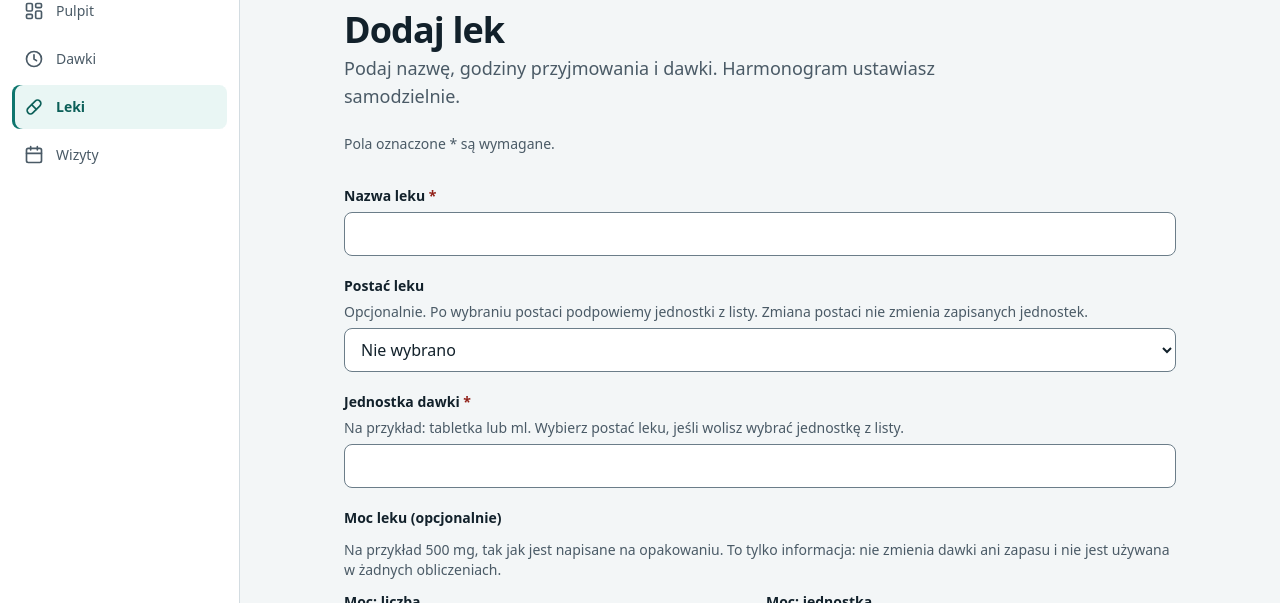
Test: add medication: strength › refuses the strength "-5"
Expected: the heading "Dodaj lek" is shown, [344,5,504,54]
Type "Demoxal" into the field labelled "Nazwa leku" at (760, 234), box [344,212,1176,256]
Type "tabletka" into the field labelled "Jednostka dawki *" at (760, 466), box [344,444,1176,488]
(page scrolled)
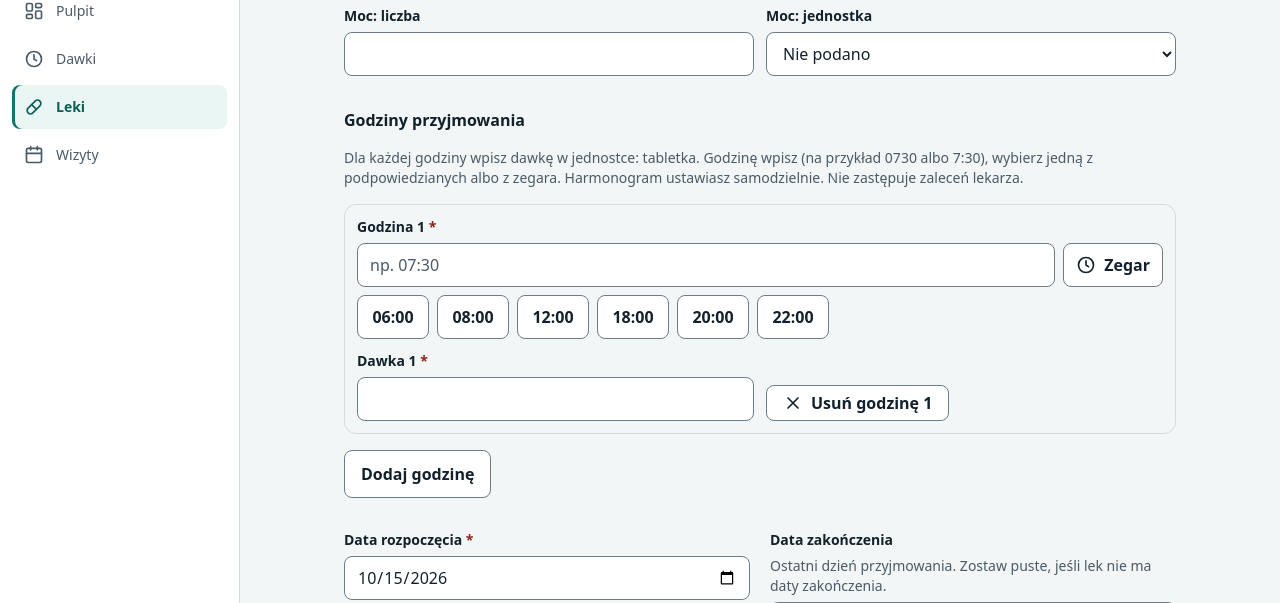
Type "08:00" into the field labelled "Godzina 1 *" at (706, 265), box [357,243,1055,287]
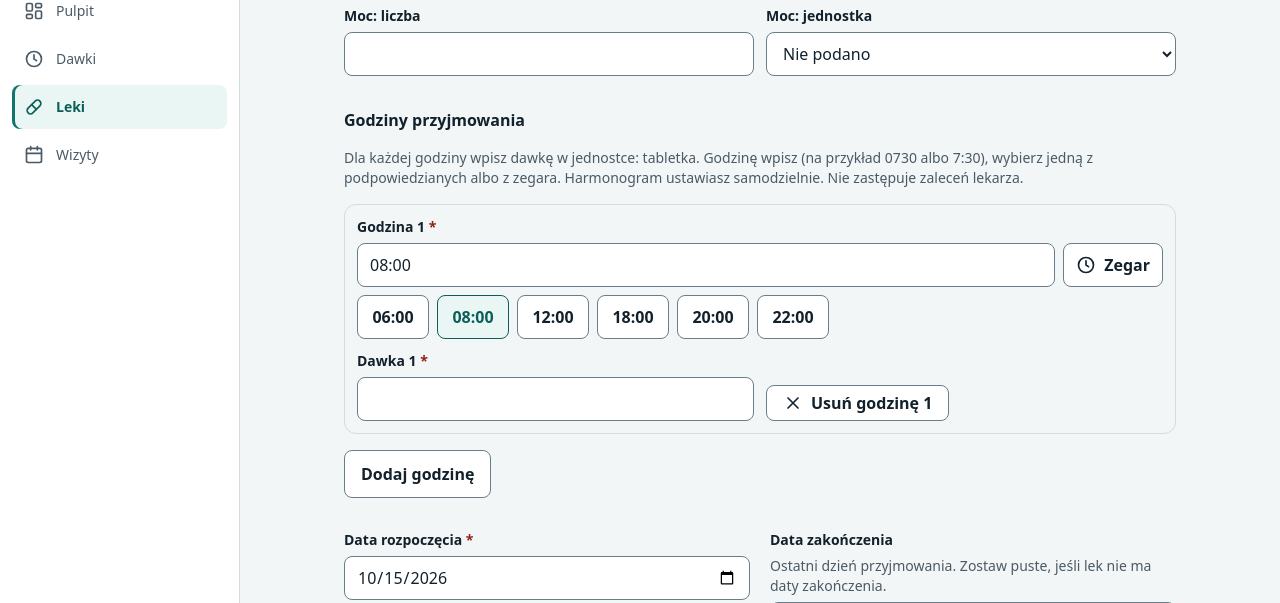
Type "1" into the field labelled "Dawka 1 *" at (556, 399), box [357,377,754,421]
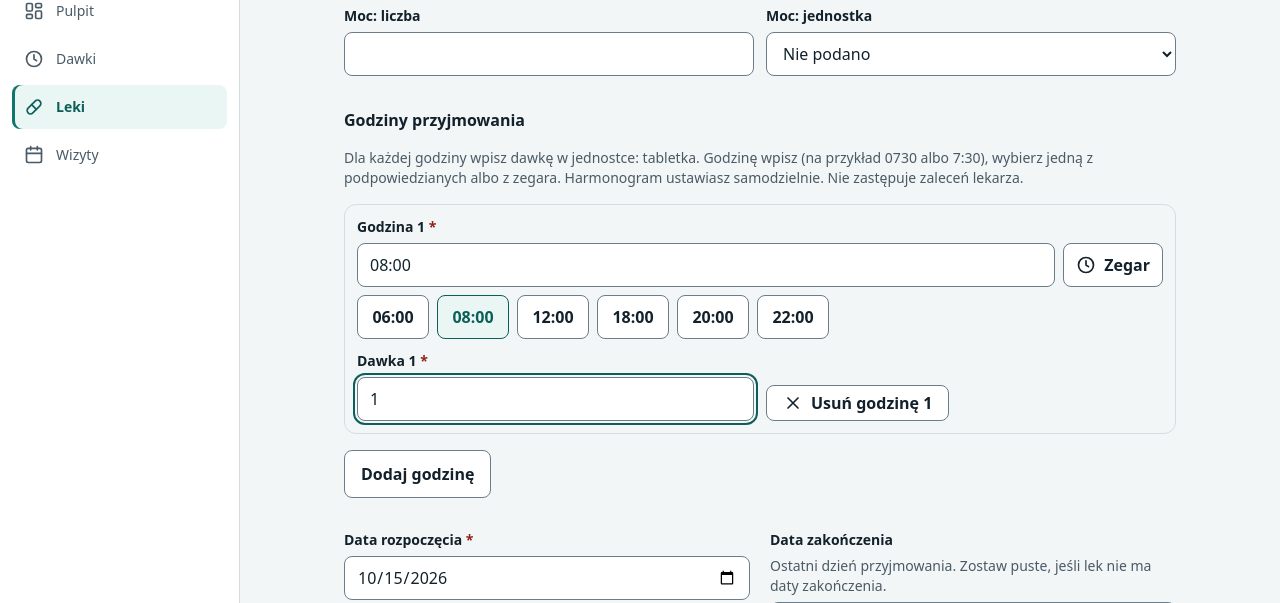
Type "-5" into the field labelled "Moc: liczba" at (549, 54), box [344,32,754,76]
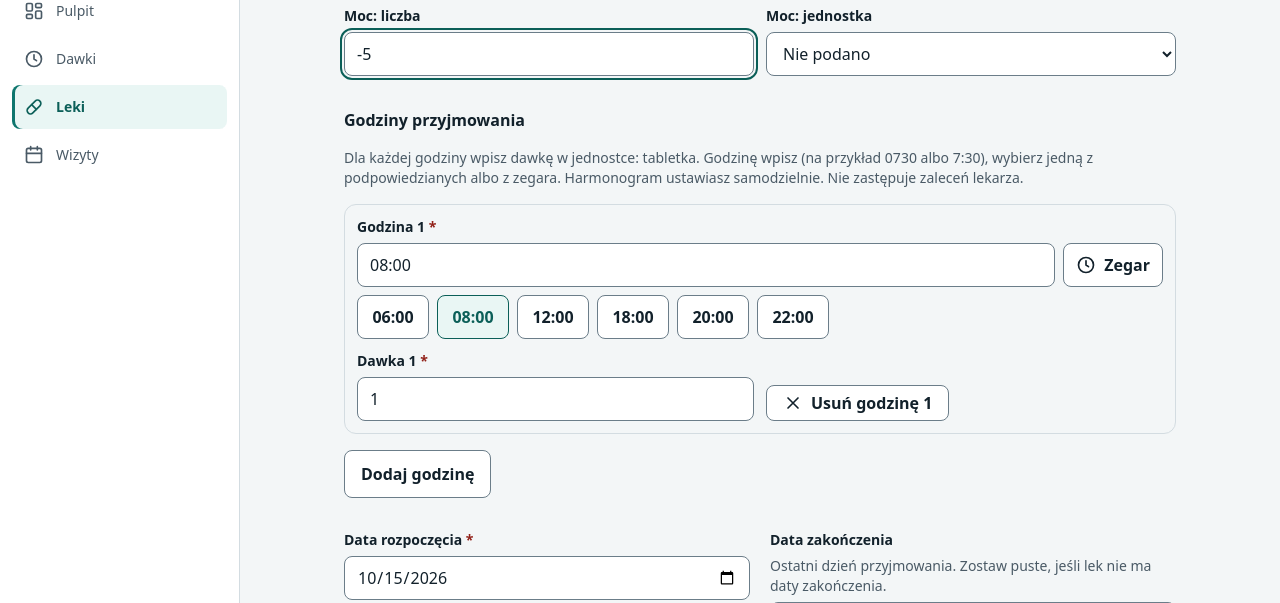
Select "mg" in the dropdown labelled "Moc: jednostka" at (971, 54), box [766,32,1176,76]
(page scrolled)
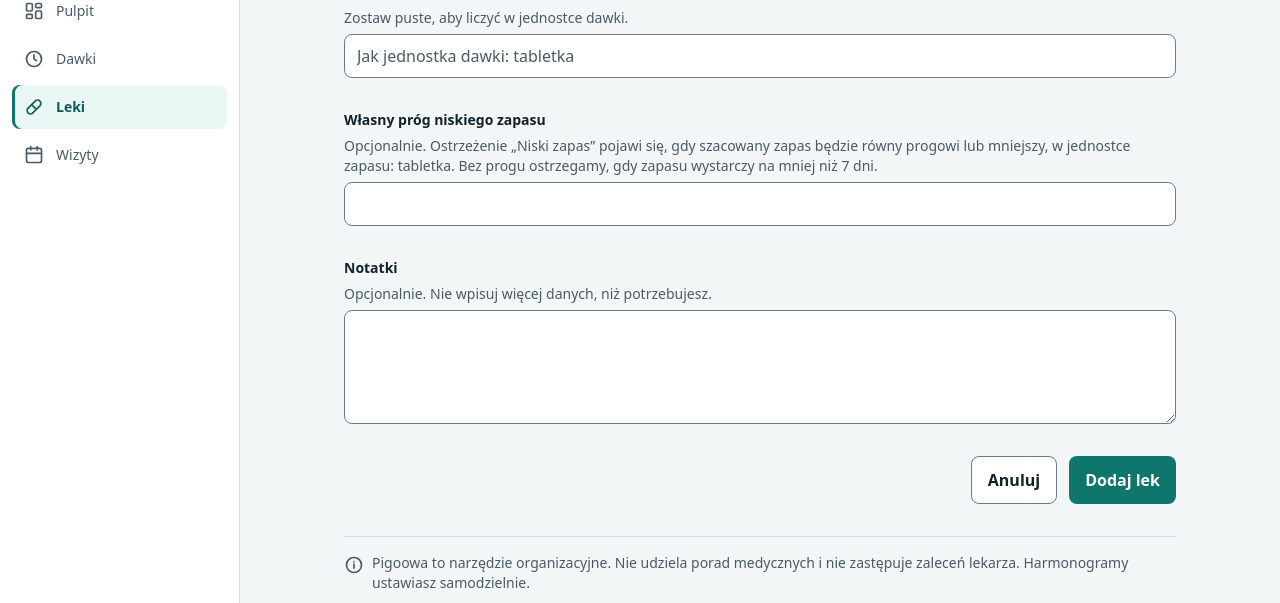
Click the button "Dodaj lek" at (1123, 480), box [1069,456,1176,504]
(page scrolled)
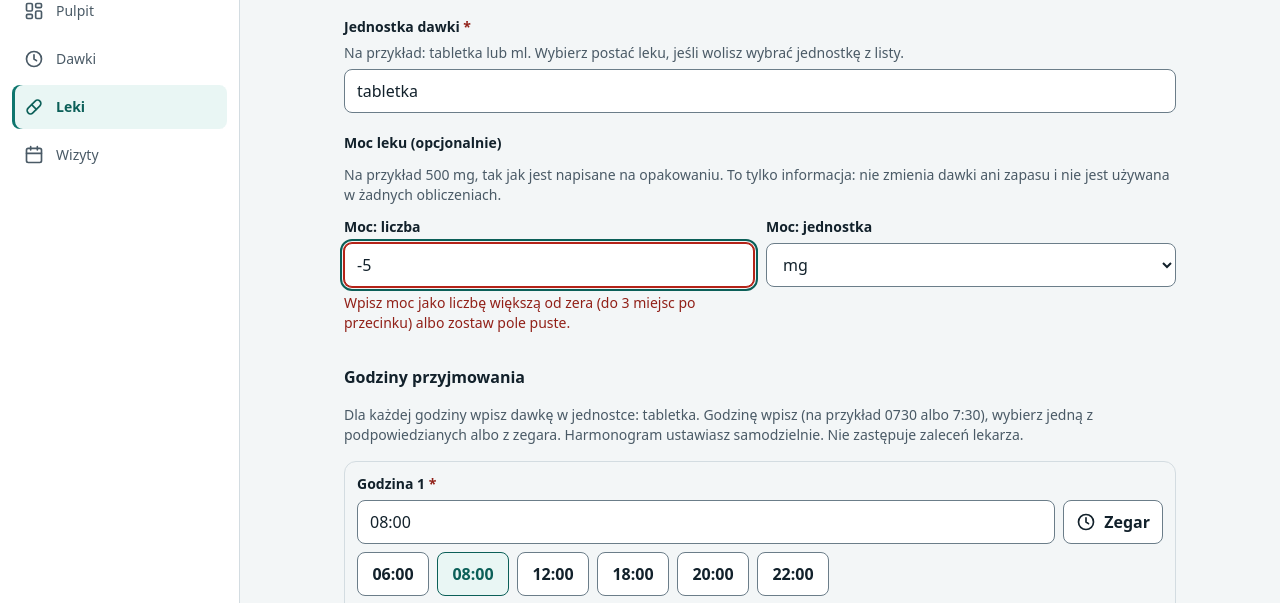
Now the text "Wpisz moc jako liczbę większą od zera" is shown, box [344,293,696,332]
